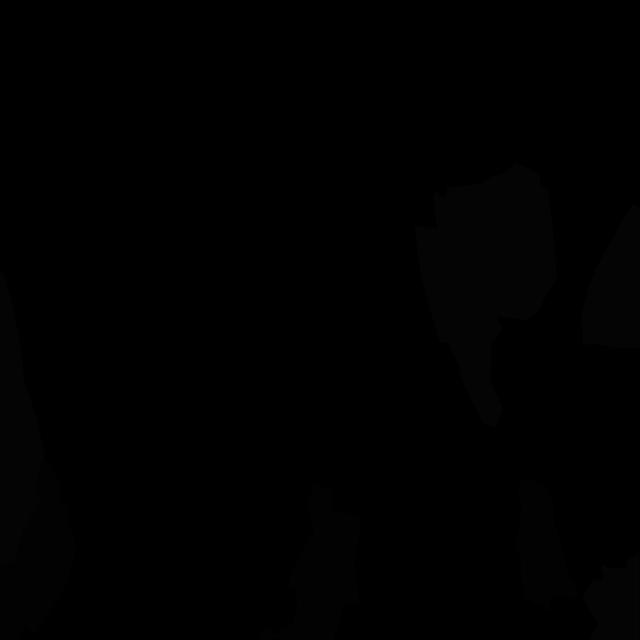cardboard: (259, 483, 362, 640), (0, 457, 76, 640), (514, 479, 578, 612)
soft_plastic: (414, 162, 557, 429), (0, 273, 44, 566), (582, 204, 640, 348), (583, 552, 640, 640)
